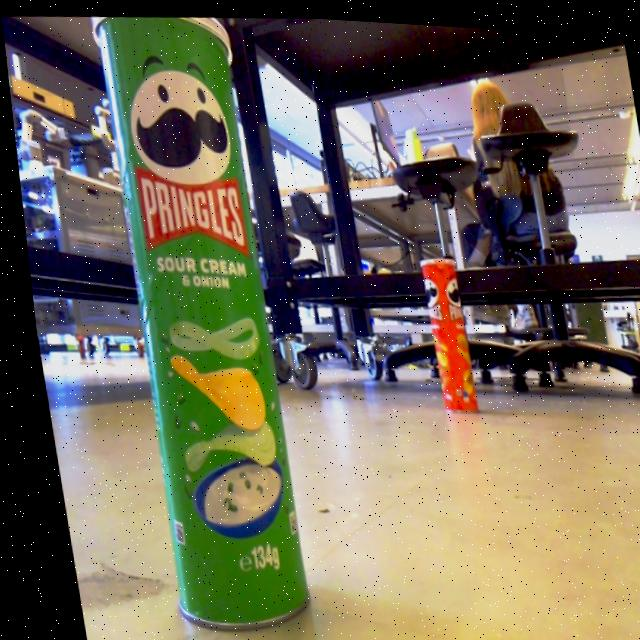greenpringles: (63, 6, 331, 640)
redpringles: (402, 240, 473, 419)
